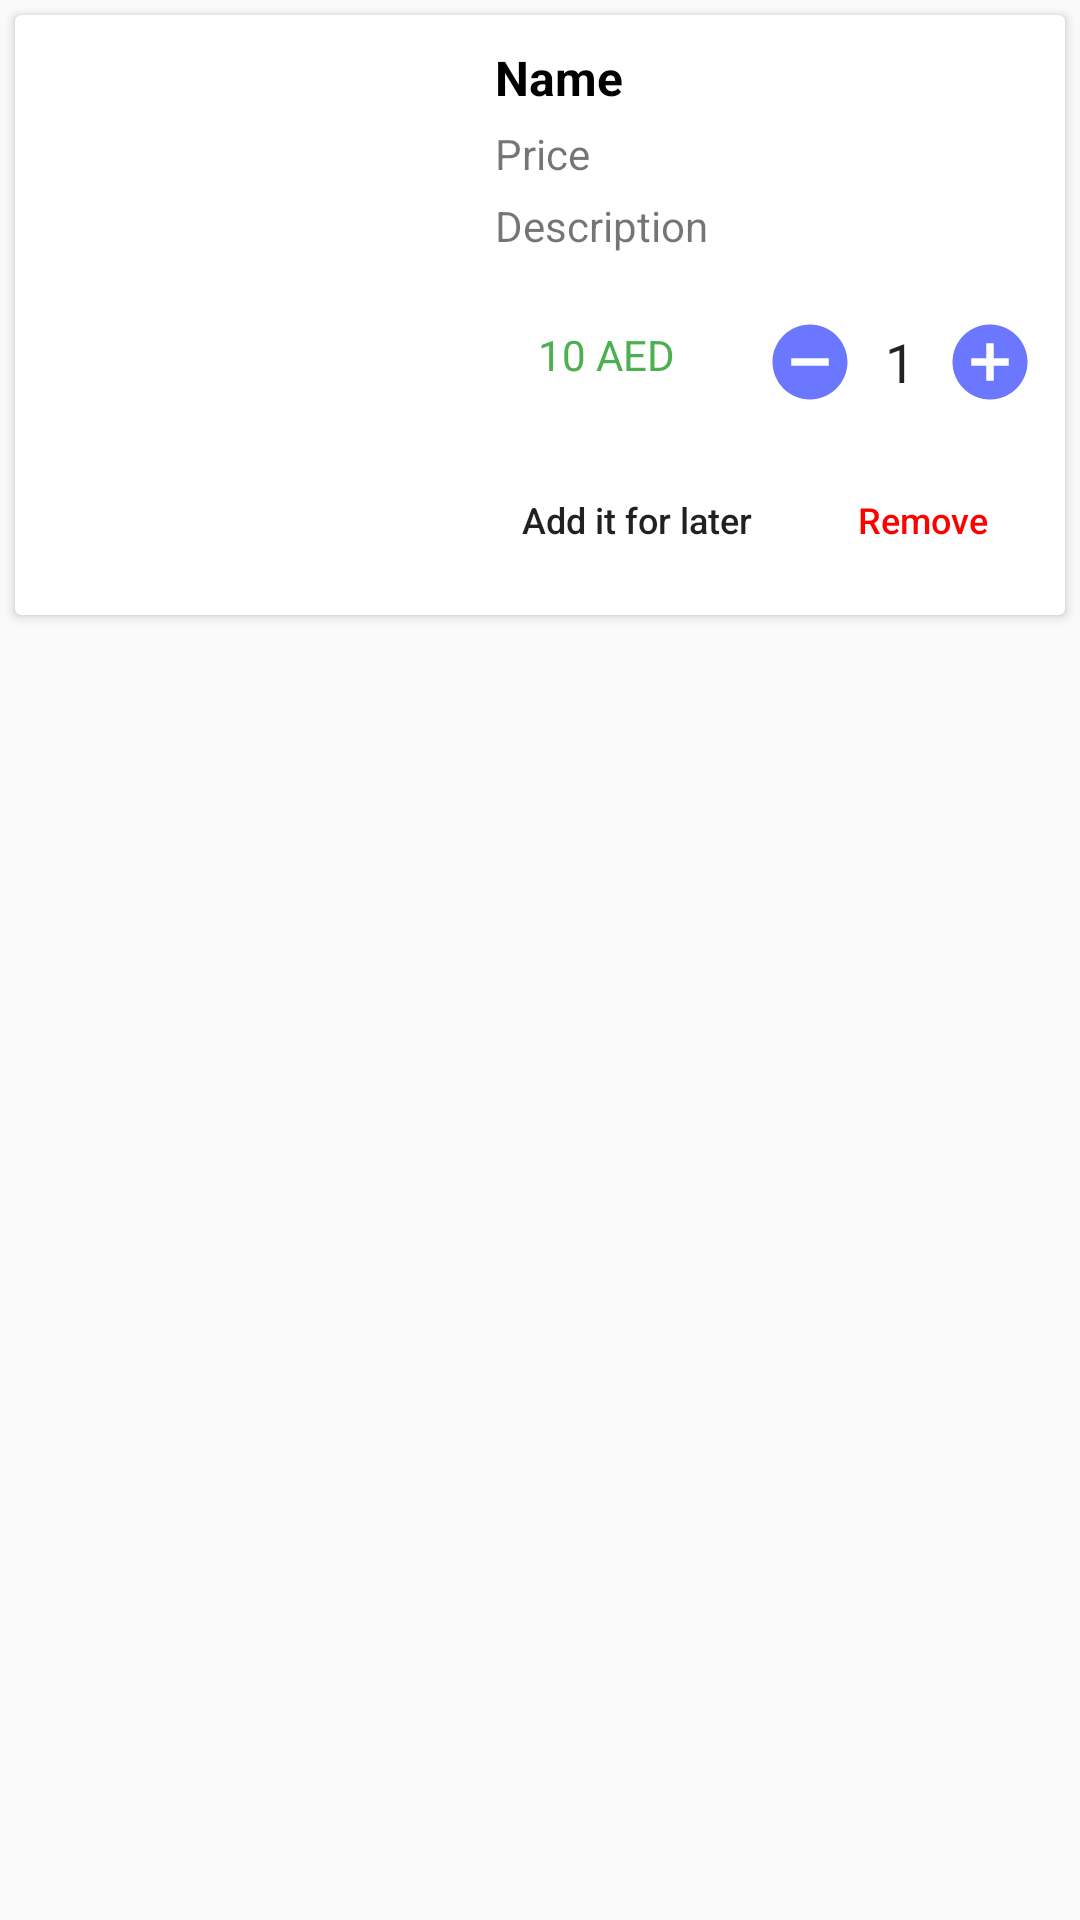

Locate icon controls on the screen. Image size 1080x1920, boxes as (x1, y1, x2, y2).
add: (952, 324, 1028, 400)
